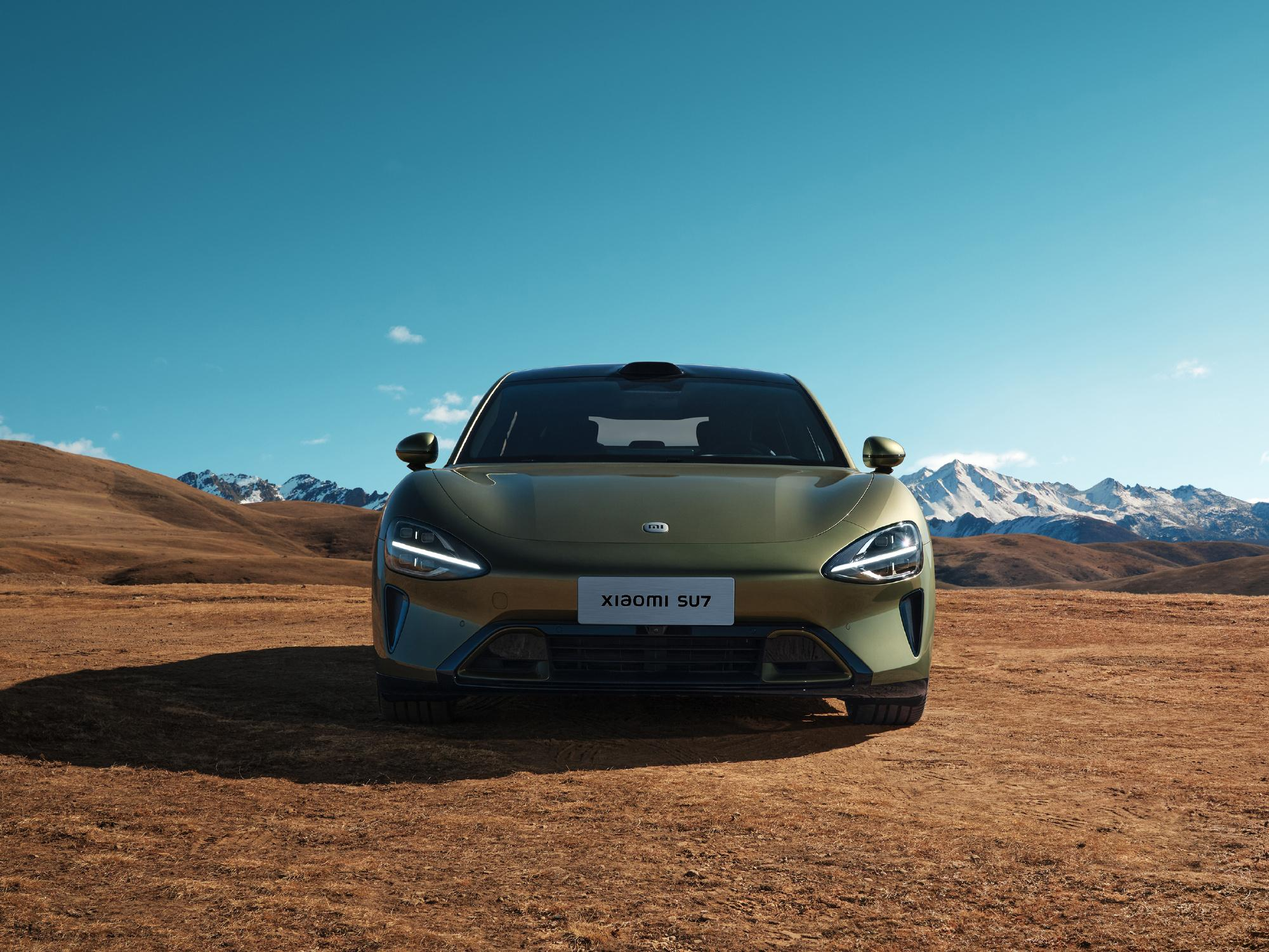XIAOMI: (643, 522, 669, 533)
